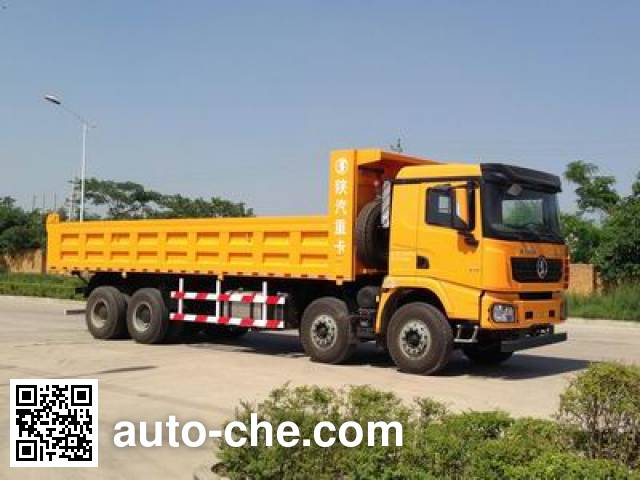truck: (35, 139, 570, 380)
